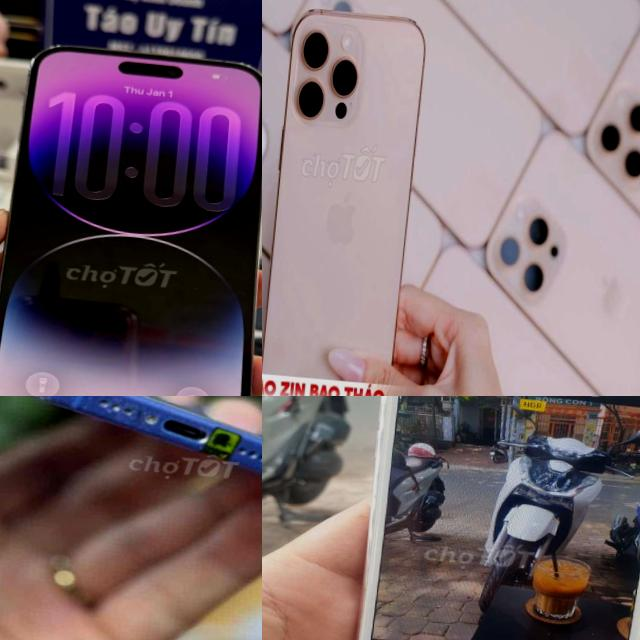scratch: (77, 396, 182, 445), (26, 396, 54, 404)
